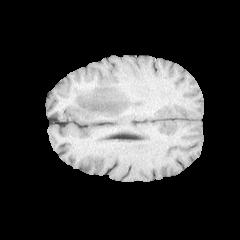glioma: (70, 77, 134, 119)
